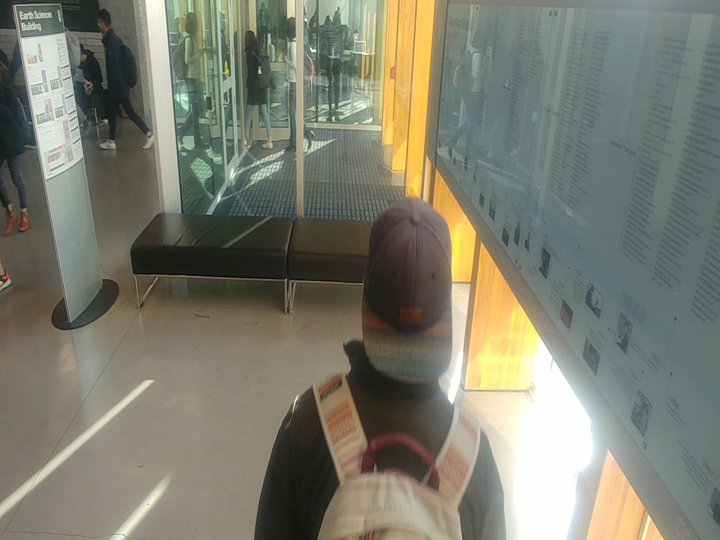face: (348, 186, 461, 395), (90, 2, 114, 38), (181, 7, 205, 41), (240, 24, 263, 56), (280, 12, 298, 40)
human: (242, 187, 516, 540), (90, 2, 153, 152), (170, 10, 221, 151), (280, 15, 298, 153)
